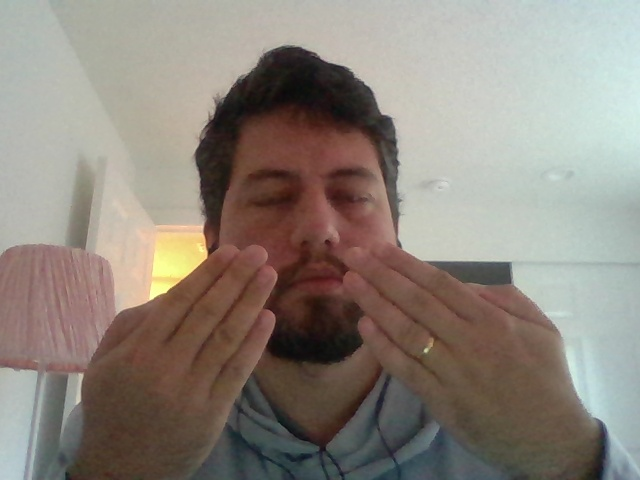ThankYou: (74, 241, 572, 473)
